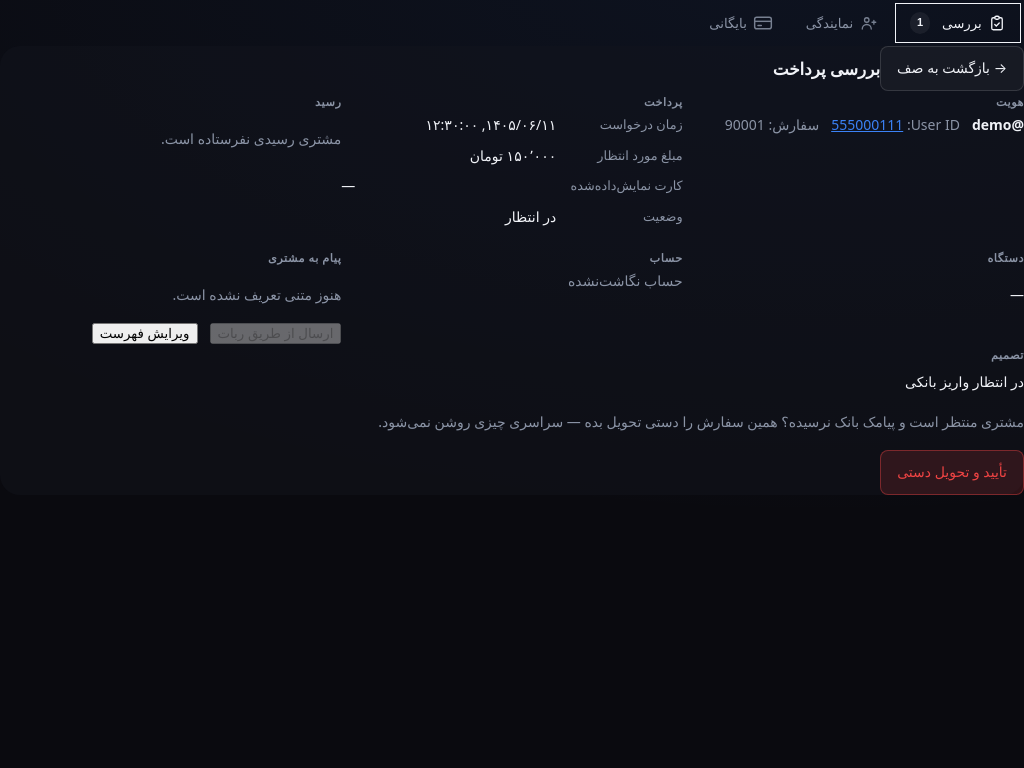
Test: what the operator is told before and after › the dialog says all three things: now, unreconciled, and no way back
Check: the element with test id "review-page" is shown, box 0,46 -> 1023,495
Click the button "تأیید و تحویل دستی". click: (952, 472)
box: 880,450 -> 1023,495
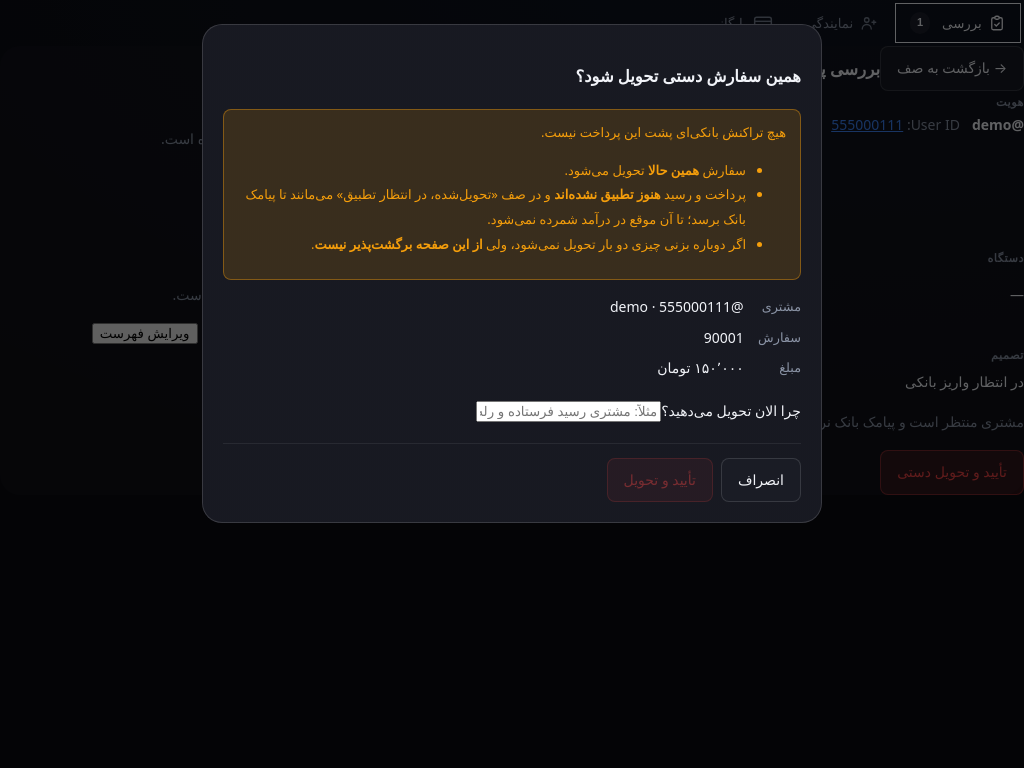
Check: the text "همین حالا" is shown, box 648,160 -> 699,178
Check: the text "هنوز تطبیق نشده‌اند" is shown, box 554,185 -> 661,203
Check: the text "از این صفحه برگشت‌پذیر نیست" is shown, box 314,235 -> 482,253
